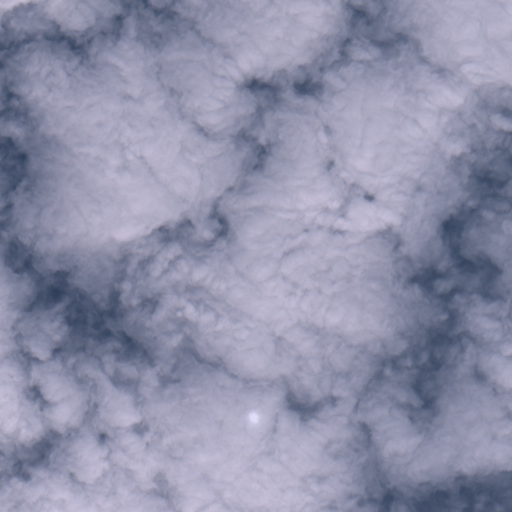Iceberg: (250, 414, 256, 422)
